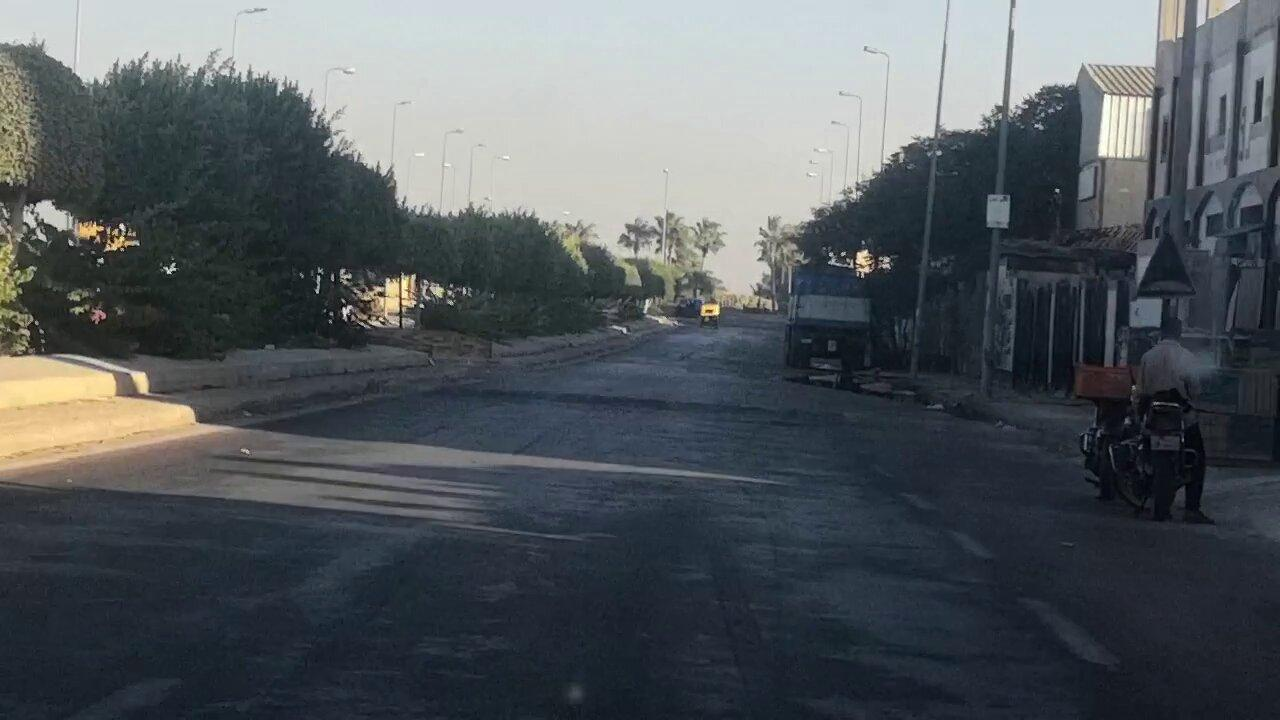Bump: (416, 381, 1031, 439)
